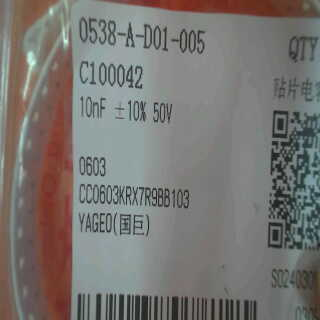10nF: (76, 96, 112, 119)
